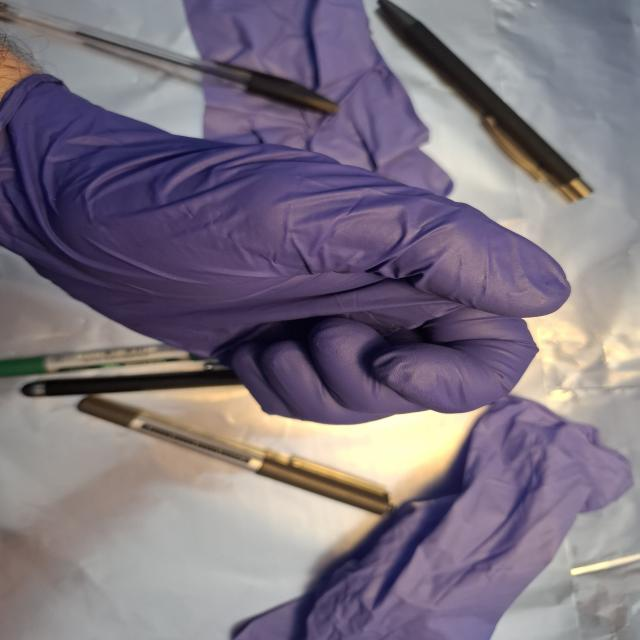glove_on: (0, 70, 577, 430)
